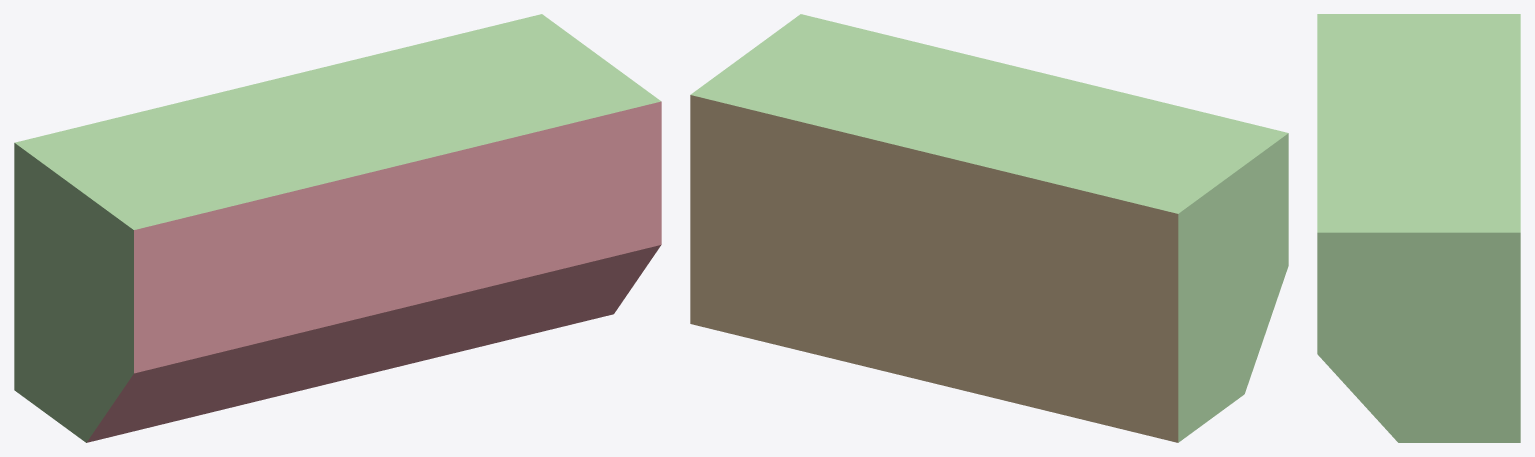
Rendered from concord.glb.
3 views of the same model, side by side, from view 1: azimuth 30°, elevation 25°; view 2: azimuth 150°, elevation 25°; view 3: azimuth 270°, elevation 25° (orthographic). The views are drawn at different scales.
Parts seen in each view (by area): view 1: concord; view 2: concord; view 3: concord.
Part boxes in pixels (x1,y1,x2,y2): concord: (14,14,661,442); concord: (690,14,1288,442); concord: (1317,14,1520,442).
Size of the model in its own units: 12.43 by 5.58 by 4.88.
